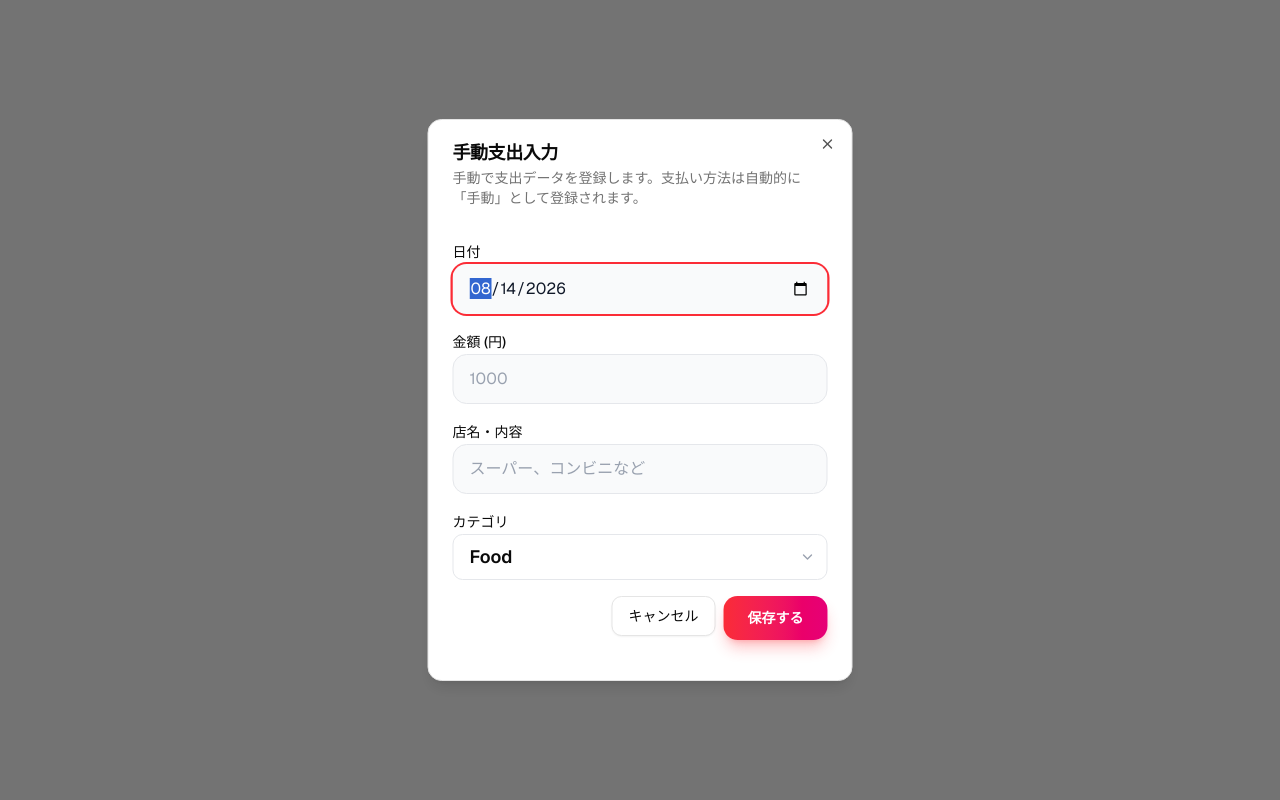
Test: ManualEntryModal › shows error message on submission failure
This screenshot has width=1280, height=800.
Type "100" into the number field labelled "金額 (円)".
click(640, 379); type("100")  # box [452,354,828,404]
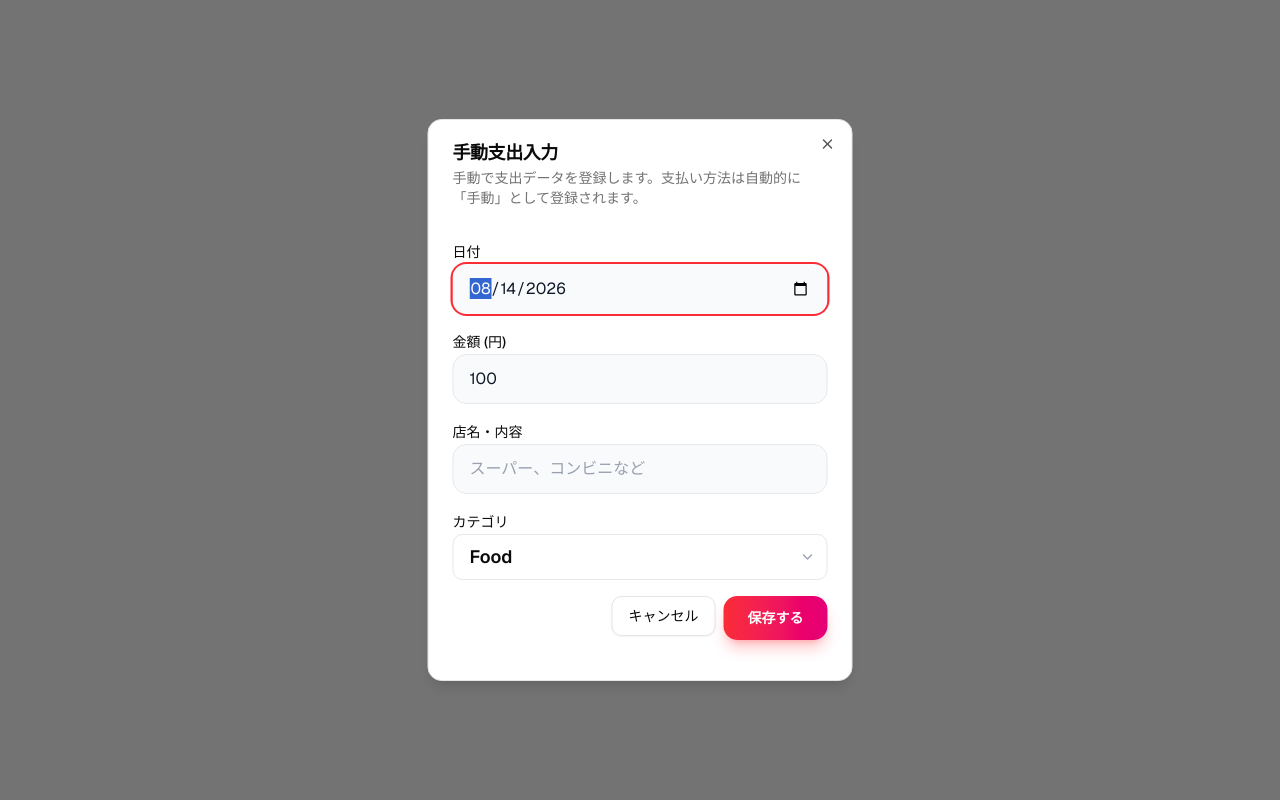
Type "Test" into the field labelled "店名・内容".
click(640, 469); type("Test")  # box [452,444,828,494]
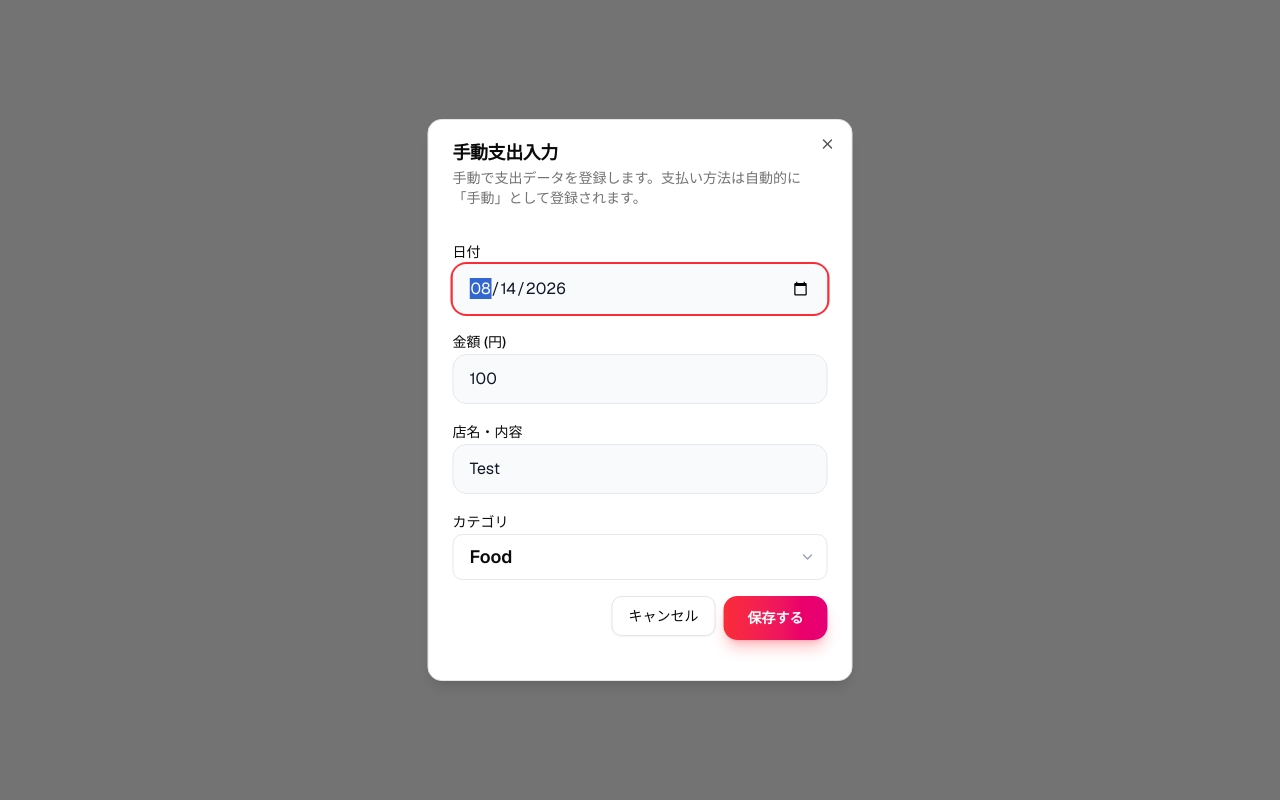
Click the button "保存する".
click(776, 618)  # box [724,596,828,640]
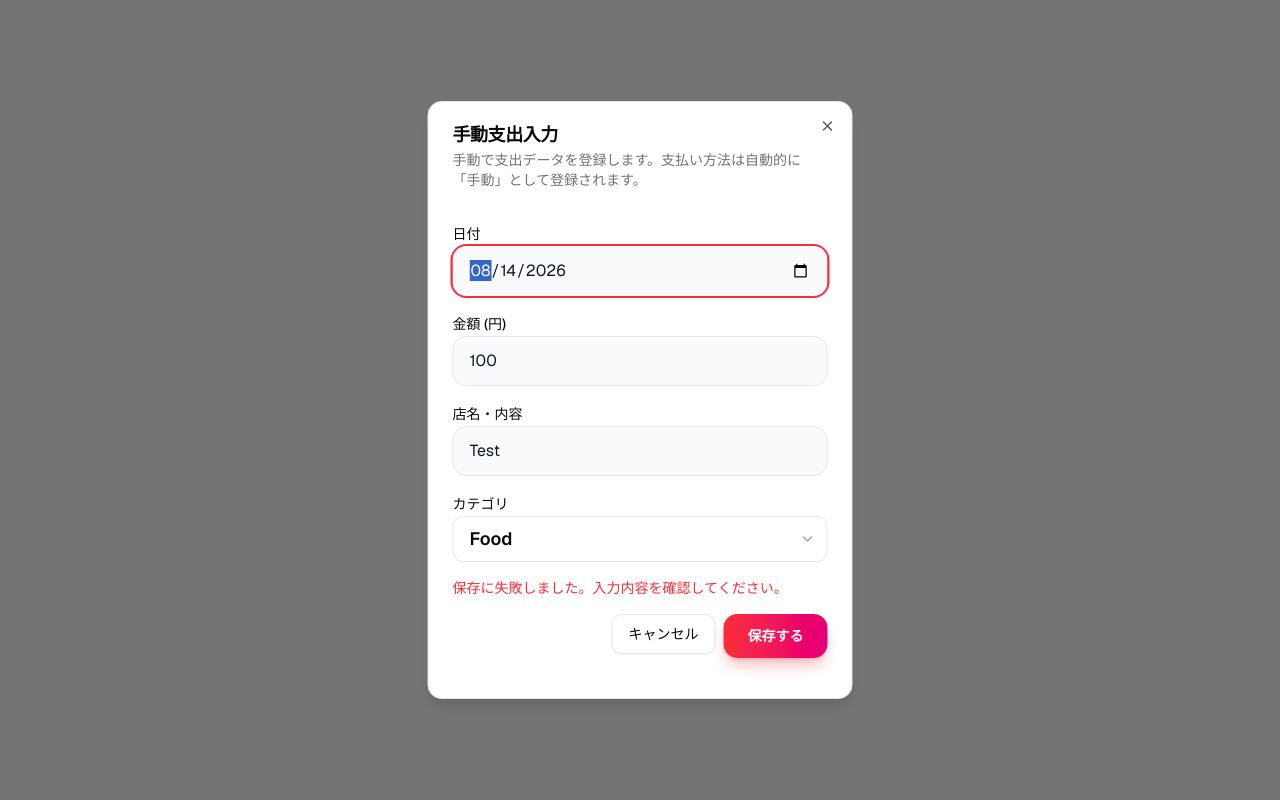
Expected: the text "保存に失敗しました。入力内容を確認してください。" is shown, [452,578,828,598]
